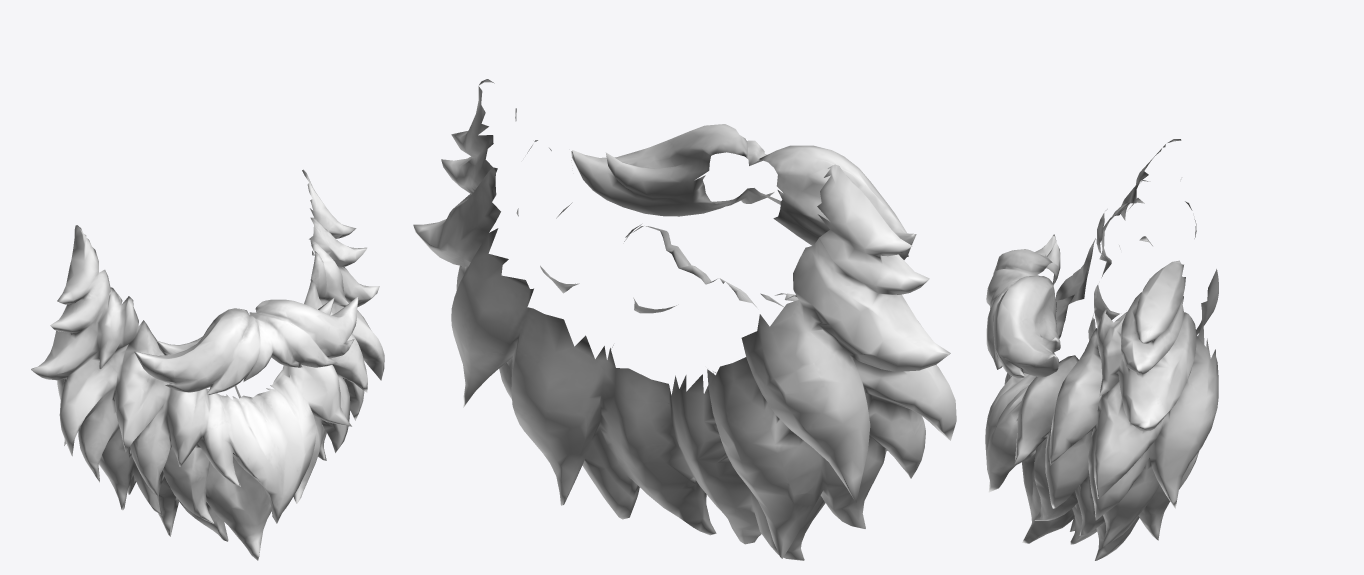
File: beard-full.glb
3 renders of one model, left to right at view 1: azimuth 30°, elevation 25°; view 2: azimuth 150°, elevation 25°; view 3: azimuth 270°, elevation 25°, orthographic. The views are drawn at different scales.
Visible parts, largest first — view 1: tripo_node_d869f710-8a40-49fd-84f5-9128ce7637b3; view 2: tripo_node_d869f710-8a40-49fd-84f5-9128ce7637b3; view 3: tripo_node_d869f710-8a40-49fd-84f5-9128ce7637b3.
Part boxes in pixels (left/top/right/bottom): tripo_node_d869f710-8a40-49fd-84f5-9128ce7637b3: left=31, top=169, right=384, bottom=560; tripo_node_d869f710-8a40-49fd-84f5-9128ce7637b3: left=413, top=79, right=956, bottom=560; tripo_node_d869f710-8a40-49fd-84f5-9128ce7637b3: left=985, top=139, right=1218, bottom=560.
Bounding box in the file's own units: 0.7296 × 0.9017 × 0.5948.
1 material, 1 textured.
